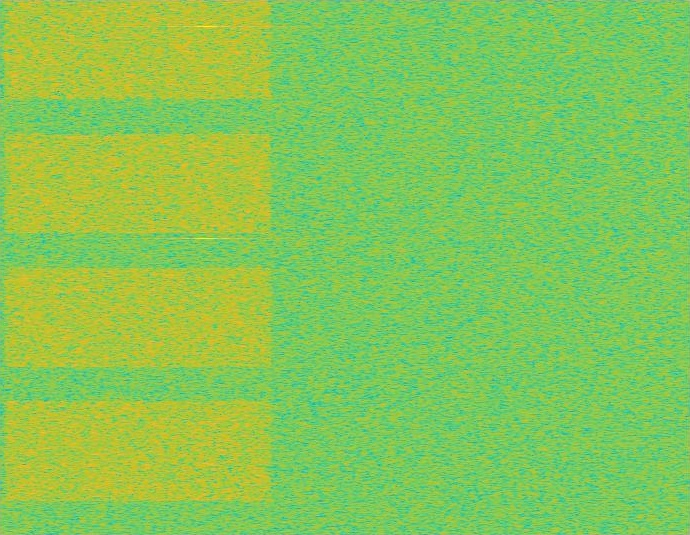5G: (0, 0, 276, 534)
Radar: (199, 0, 213, 534)
